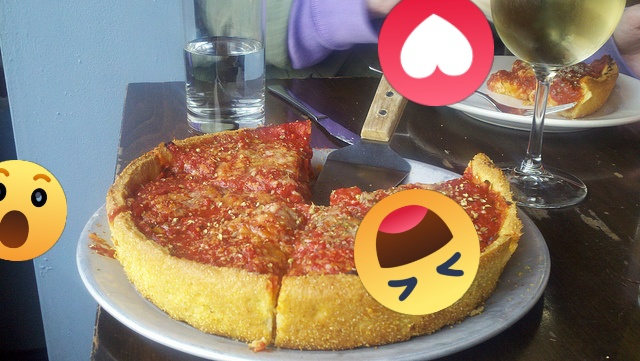haha: (354, 189, 480, 315)
love: (378, 0, 494, 106)
wow: (0, 160, 67, 261)
